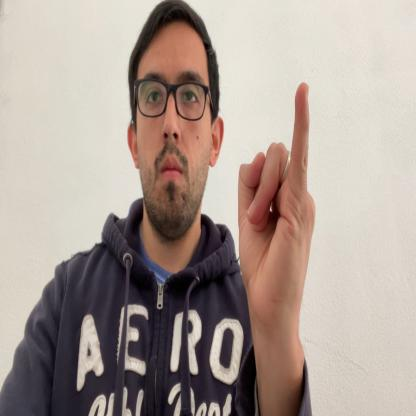I: (236, 81, 315, 315)
